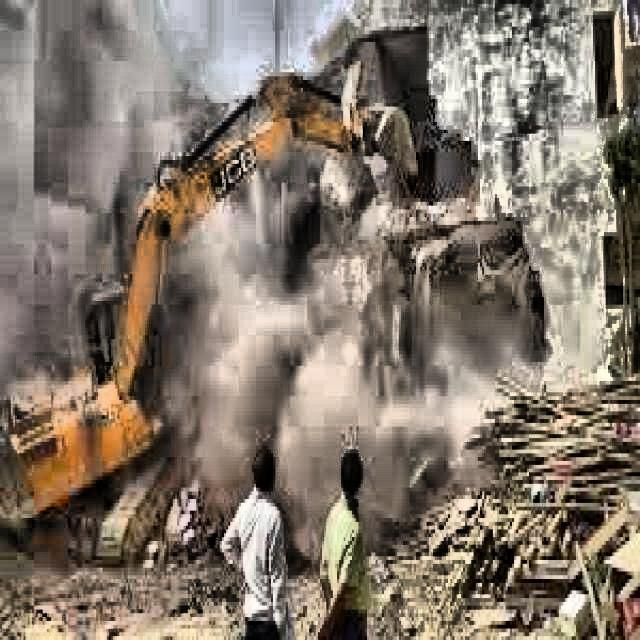bull_dozer/loader/grader: (0, 68, 423, 578)
person: (219, 431, 296, 640), (318, 444, 370, 640)
